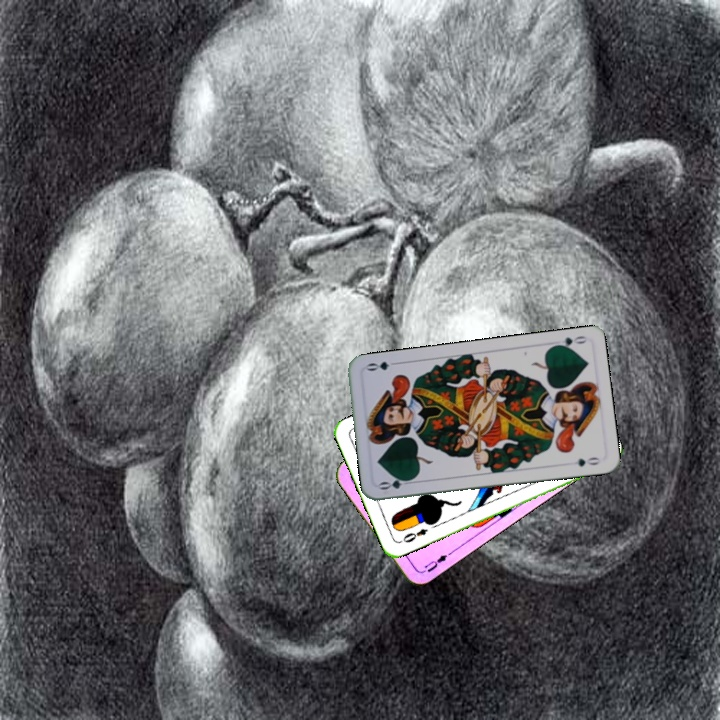EO: (396, 524, 430, 545)
EU: (418, 550, 450, 576)
GO: (549, 332, 589, 352), (376, 474, 416, 492)
